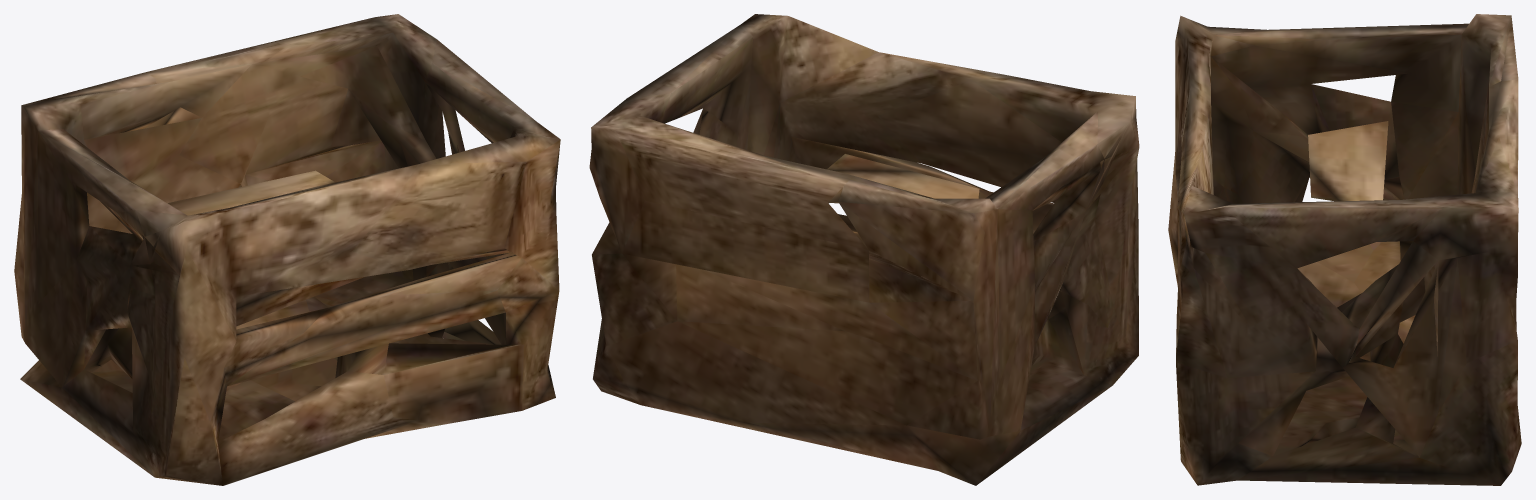
File: e_crate.glb
The picture shows the model from 3 angles, left to right: view 1: azimuth 30°, elevation 25°; view 2: azimuth 150°, elevation 25°; view 3: azimuth 270°, elevation 25°; orthographic projection. The views are drawn at different scales.
Parts seen in each view (by area): view 1: tripo_node_e0022871-d5aa-47e4-9162-438a49064a94; view 2: tripo_node_e0022871-d5aa-47e4-9162-438a49064a94; view 3: tripo_node_e0022871-d5aa-47e4-9162-438a49064a94.
Boxes of the visible parts, <box> form: tripo_node_e0022871-d5aa-47e4-9162-438a49064a94: <box>14,14,560,485</box>; tripo_node_e0022871-d5aa-47e4-9162-438a49064a94: <box>589,14,1139,485</box>; tripo_node_e0022871-d5aa-47e4-9162-438a49064a94: <box>1168,14,1521,485</box>.
Size of the model in its own units: 1 by 0.671 by 0.758.
1 material, 1 textured.
